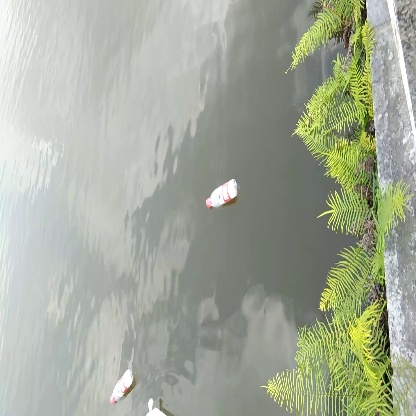bottle: (204, 178, 241, 212)
